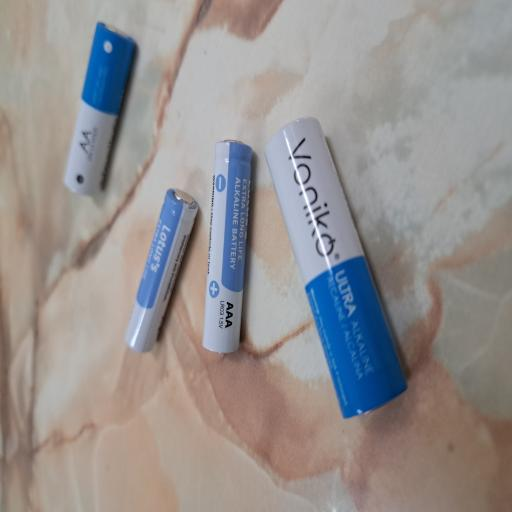battery: (69, 350, 299, 512), (233, 82, 371, 187), (118, 164, 244, 269), (119, 269, 281, 341)
